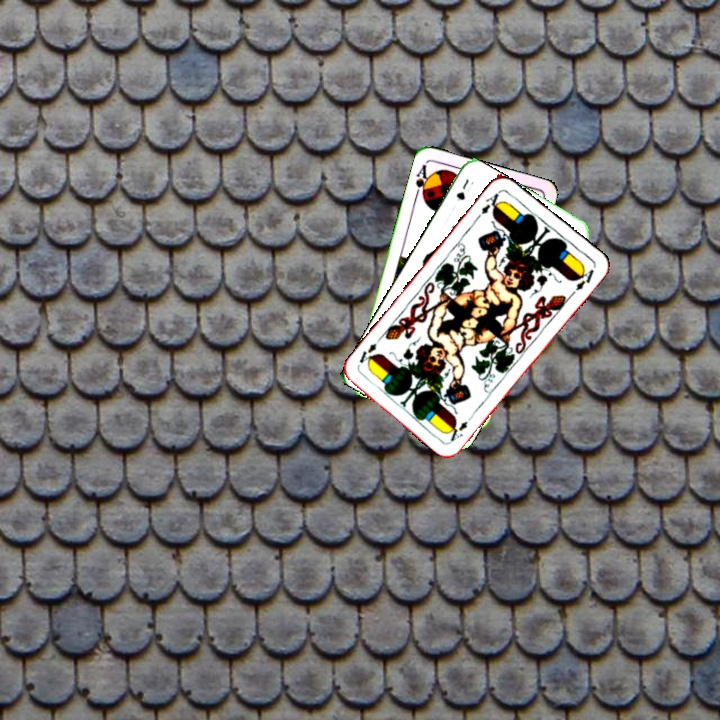EA: (472, 188, 504, 222), (446, 410, 477, 444)
GU: (452, 175, 477, 204)
SA: (411, 160, 433, 201)
